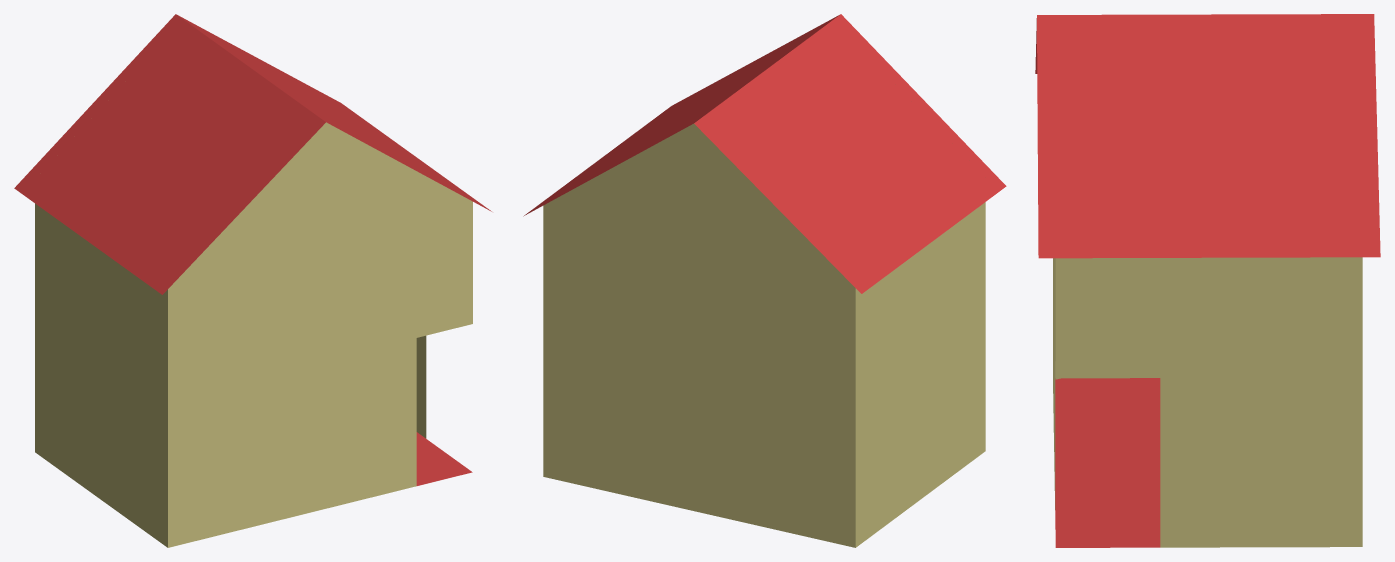
3 renders of one model, left to right at view 1: azimuth 30°, elevation 25°; view 2: azimuth 150°, elevation 25°; view 3: azimuth 270°, elevation 25°, orthographic. The views are drawn at different scales.
Bounding box in the file's own units: 12.6 × 9.92 × 14.17.
